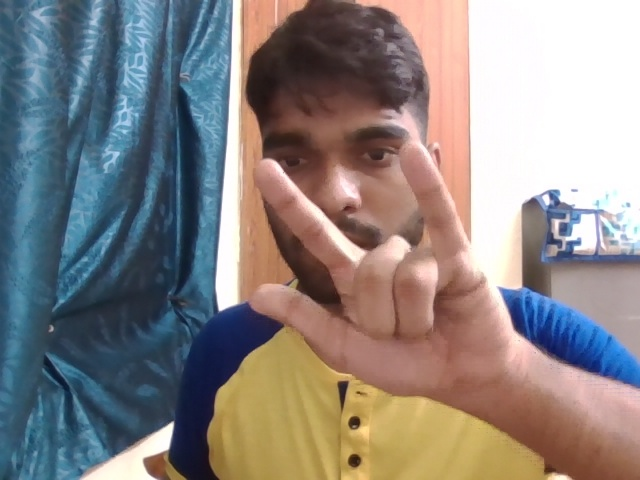I love you: (245, 132, 521, 451)
